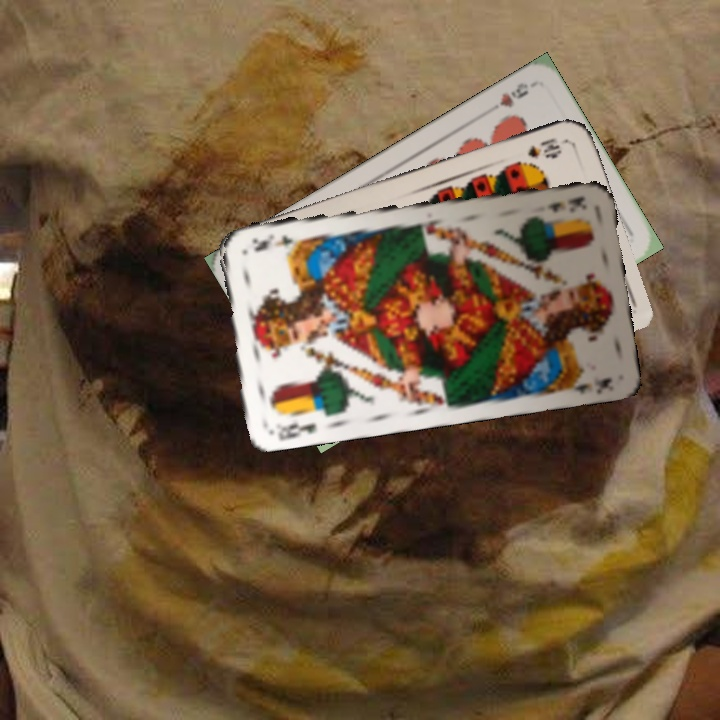EK: (272, 418, 319, 442), (544, 192, 588, 214)
H9: (495, 78, 531, 110)
S10: (523, 134, 569, 161)
